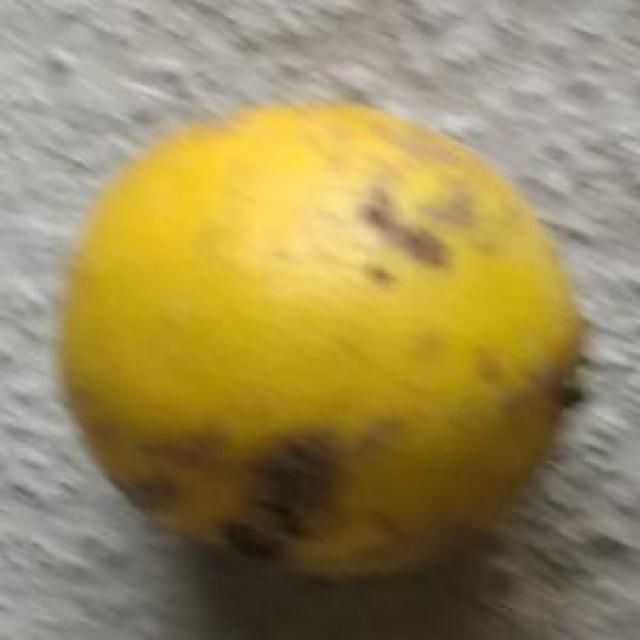lemon: (55, 96, 588, 582)
